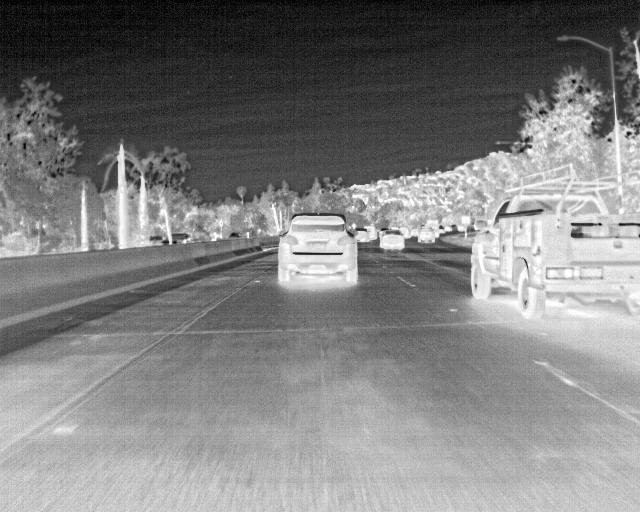car: (468, 160, 639, 322), (278, 210, 358, 287), (378, 229, 402, 247), (349, 226, 370, 243), (362, 223, 378, 238), (420, 230, 435, 245)
